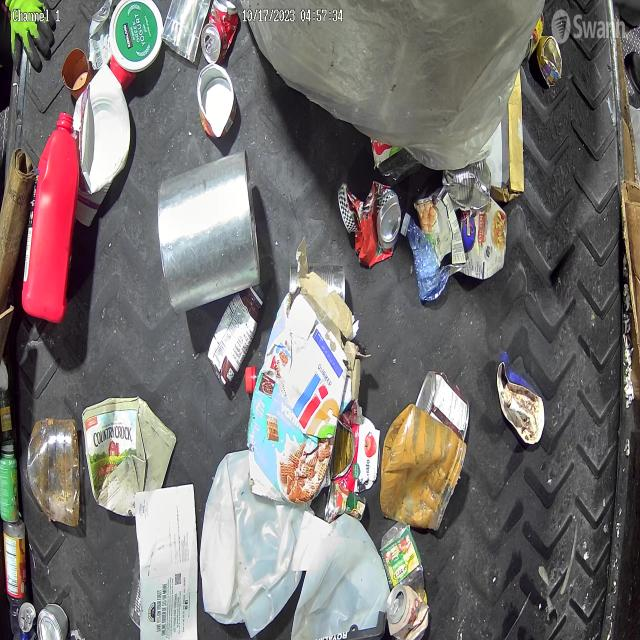can: (337, 180, 402, 269), (417, 188, 467, 281), (414, 369, 470, 443), (442, 158, 492, 216), (200, 0, 241, 64), (385, 582, 429, 640), (288, 263, 346, 302), (536, 36, 564, 90), (36, 602, 69, 640), (17, 600, 37, 640)
milk_jug: (200, 449, 316, 638), (291, 515, 390, 640)
non_white_jug: (21, 107, 78, 319)
